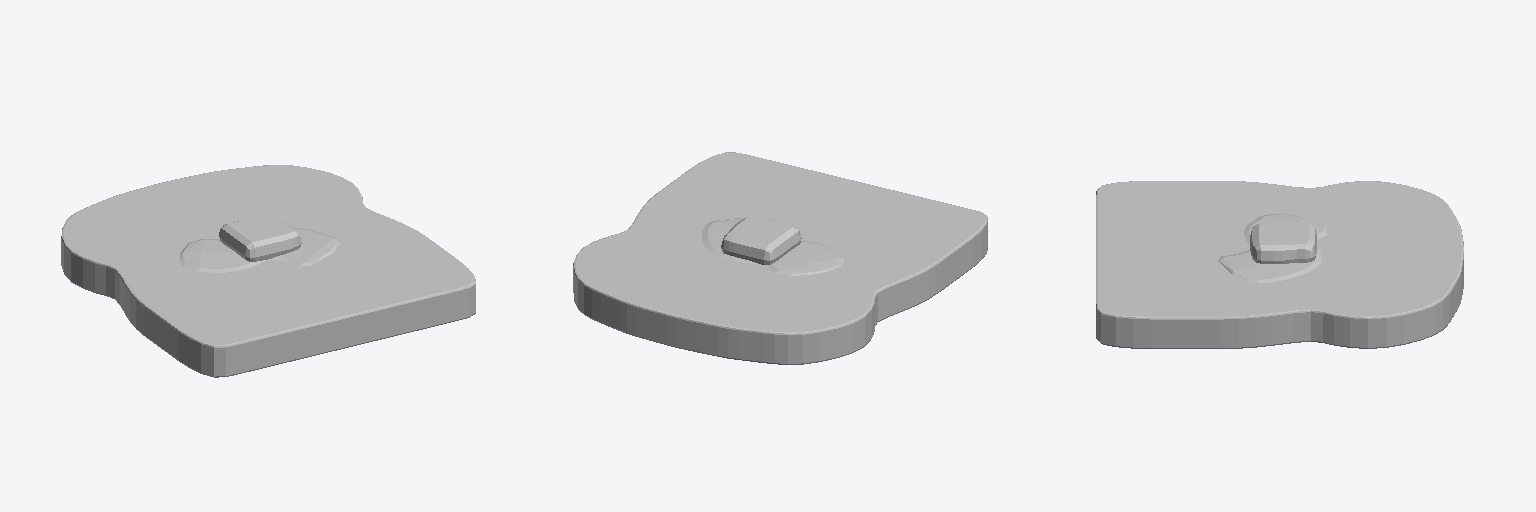
File: Toast.obj
3 views of the same model, side by side, from view 1: azimuth 30°, elevation 25°; view 2: azimuth 150°, elevation 25°; view 3: azimuth 270°, elevation 25° (orthographic).
Visible parts, largest first — view 1: Box001, Line001, Box002; view 2: Box001, Box002, Line001; view 3: Box001, Line001, Box002.
Part boxes in pixels (left/top/right/bottom): Box001: left=61, top=165, right=475, bottom=377; Line001: left=180, top=227, right=339, bottom=272; Box002: left=219, top=215, right=301, bottom=261; Box001: left=573, top=152, right=987, bottom=364; Box002: left=721, top=217, right=801, bottom=264; Line001: left=702, top=218, right=843, bottom=276; Box001: left=1096, top=181, right=1463, bottom=348; Line001: left=1218, top=213, right=1327, bottom=283; Box002: left=1250, top=224, right=1316, bottom=263.
Bounding box in the file's own units: 52.21 × 8.82 × 58.95.